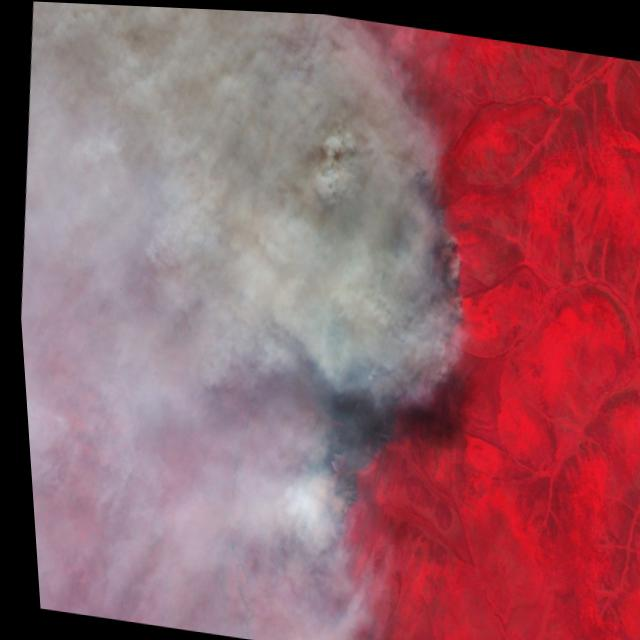fire: (267, 137, 488, 551)
